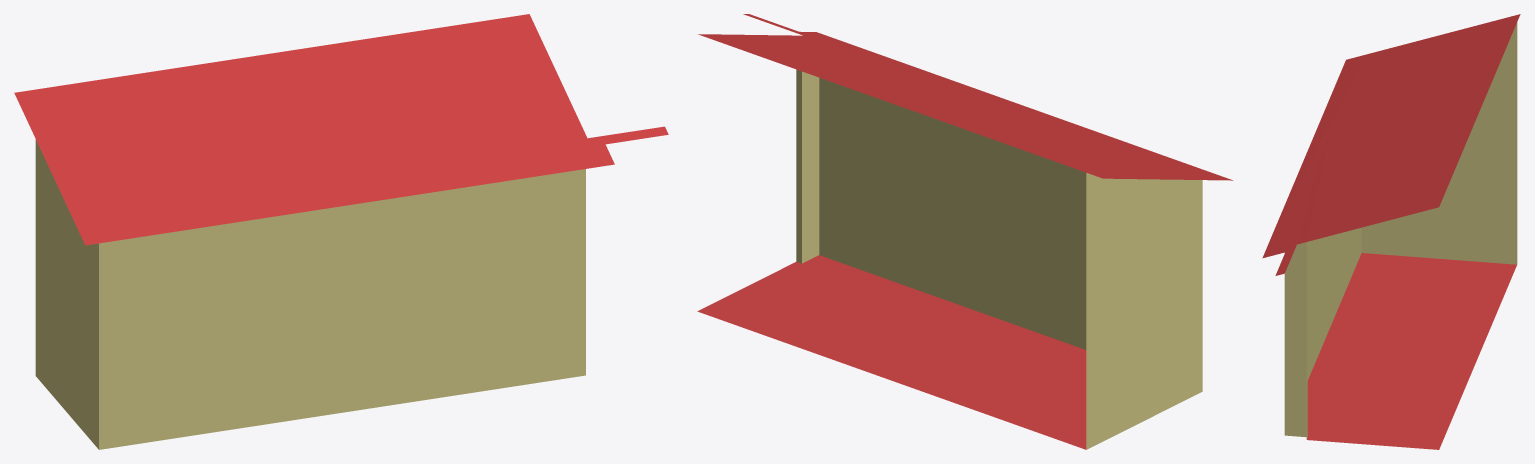
3 views of the same model, side by side, from view 1: azimuth 30°, elevation 25°; view 2: azimuth 150°, elevation 25°; view 3: azimuth 270°, elevation 25° (orthographic). The views are drawn at different scales.
Size of the model in its own units: 13.81 by 6.71 by 6.95.
